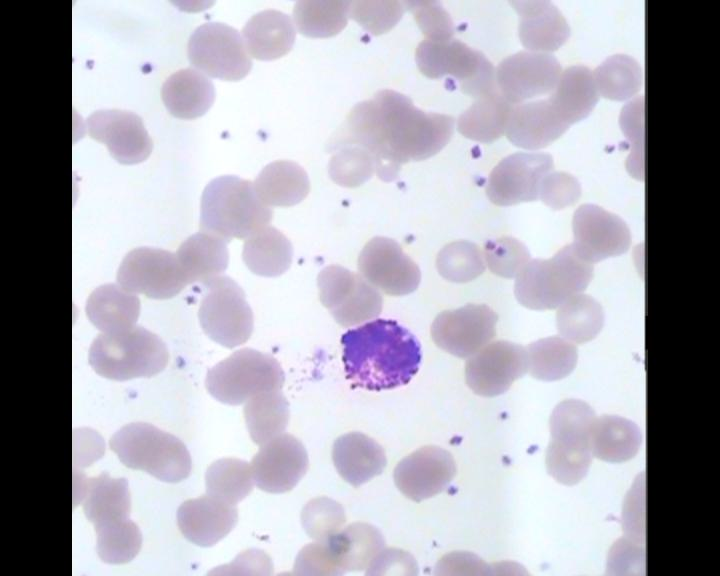baso: (334, 313, 427, 395)
